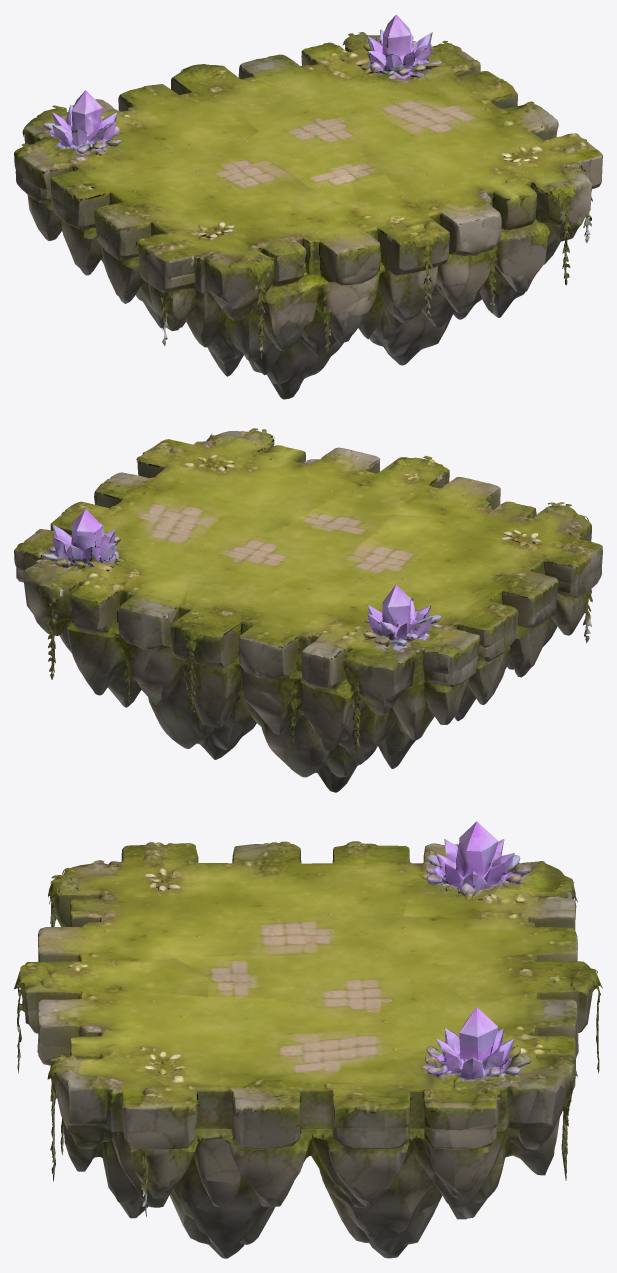
The picture shows the model from 3 angles, top to bottom: view 1: azimuth 30°, elevation 25°; view 2: azimuth 150°, elevation 25°; view 3: azimuth 270°, elevation 25°; orthographic projection. The views are drawn at different scales.
Visible parts, largest first — view 1: model; view 2: model; view 3: model.
Boxes of the visible parts, x1,y1,x2,y2 form: model: (14,14,602,399); model: (14,428,602,792); model: (14,821,602,1258).
Bounding box in the file's own units: 1.9 × 1.05 × 1.78.
Materials: 1 (1 with a texture image).
